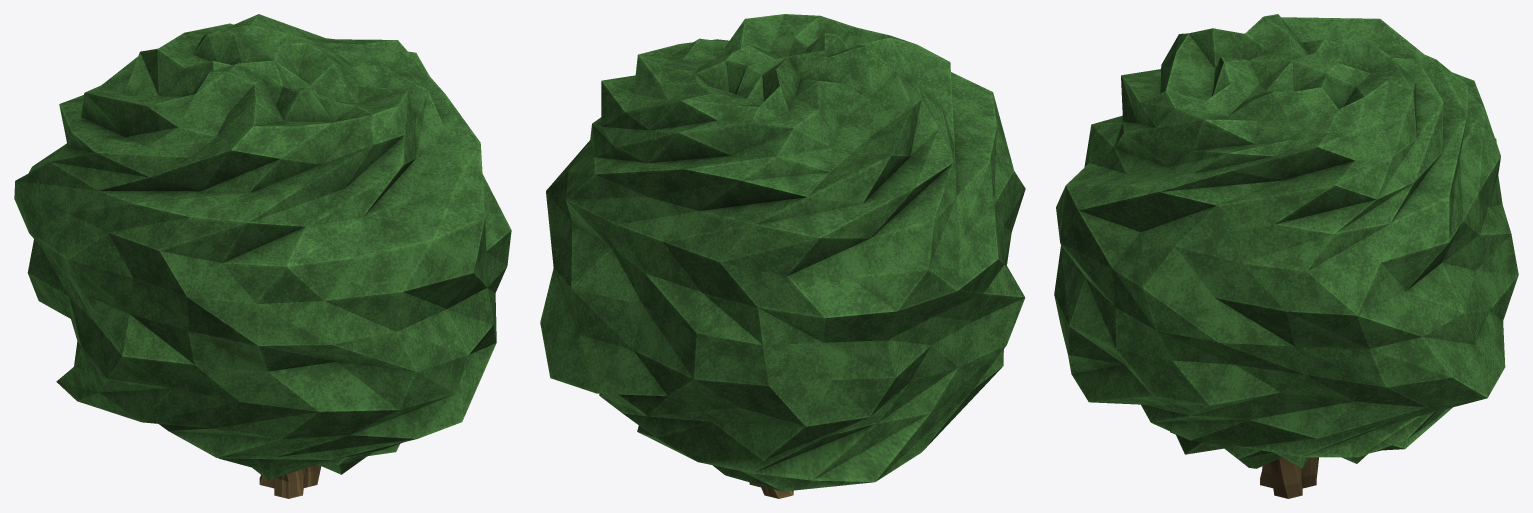
File: shrub.glb
3 renders of one model, left to right at view 1: azimuth 30°, elevation 25°; view 2: azimuth 150°, elevation 25°; view 3: azimuth 270°, elevation 25°, orthographic. The views are drawn at different scales.
Parts seen in each view (by area): view 1: Shrub_mesh; view 2: Shrub_mesh; view 3: Shrub_mesh.
Part boxes in pixels (x1=…): Shrub_mesh: x1=14, y1=14, x2=511, y2=498; Shrub_mesh: x1=540, y1=14, x2=1025, y2=498; Shrub_mesh: x1=1054, y1=14, x2=1518, y2=498.
Bounding box in the file's own units: 4.57 × 4.66 × 4.52.
Materials: 1 (1 with a texture image).
